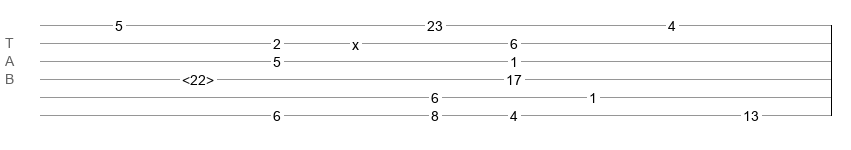1: (510, 54, 518, 64), (589, 90, 597, 100)
13: (743, 108, 759, 118)
17: (506, 72, 522, 82)
2: (273, 36, 281, 46)
23: (427, 18, 443, 28)
4: (510, 108, 518, 118), (668, 18, 676, 28)
5: (115, 18, 123, 28), (273, 54, 281, 64)
6: (273, 108, 281, 118), (431, 90, 439, 100), (510, 36, 518, 46)
8: (431, 108, 439, 118)
harmonic: (182, 72, 214, 82)
x: (352, 37, 359, 45)
